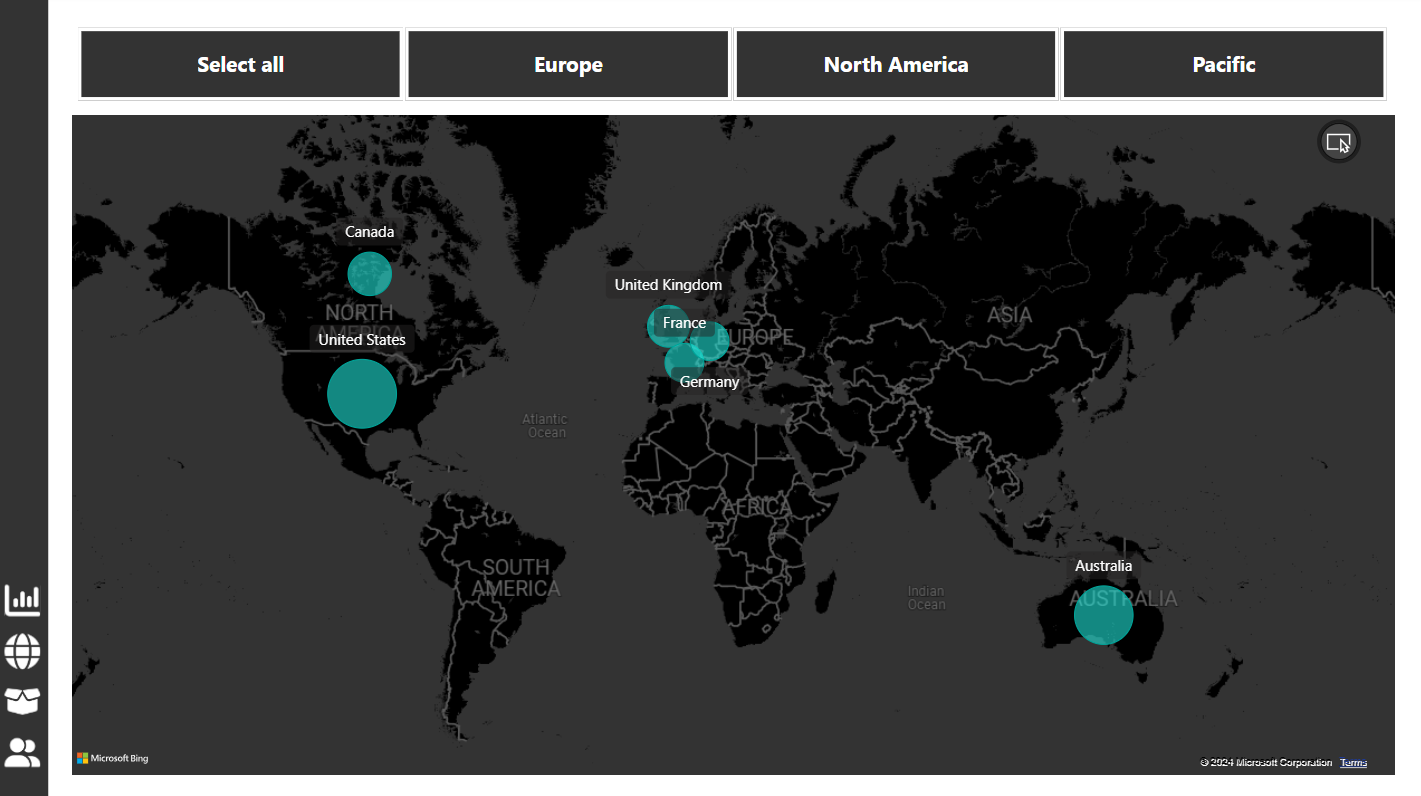

The dashboard page shown, as its layout file describes it:
{"tool":"powerbi","page":{"name":"Map","canvas":[1280,720],"ordinal":1},"visuals":[{"type":"shape","box":[0,0,45,720],"z":0},{"type":"actionButton","box":[1.8,521.2,51.9,40.3],"z":1000,"group":"g1"},{"type":"map","fields":{"Category":["Territory Lookup.Country"],"Size":["Measure Table.Total Orders"]},"box":[60.9,100.9,1194.5,600.9],"z":1000},{"type":"slicer","fields":{"Values":["Territory Lookup.Continent"]},"box":[45.5,21.8,1221.8,79.1],"z":2000},{"type":"actionButton","box":[1.8,657.3,51.9,40.3],"z":2000,"group":"g1"},{"type":"actionButton","box":[1.8,611.9,51.9,40.3],"z":3000,"group":"g1"},{"type":"group","id":"g1","title":"Navigation Keys","box":[1.8,521.2,51.9,176.4],"z":3000},{"type":"actionButton","box":[1.8,566.6,51.9,40.3],"z":4000,"group":"g1"}]}

Visuals, with their boxes on the page's 1280x720 design canvas (x1, y1, x2, y2). These are canvas units, not pixel positions in the 1421x796 screenshot, which may show the page scaled, cropped or inside an application window:
shape: 0, 0, 45, 720
actionButton: 2, 521, 54, 562
map - Territory Lookup.Country x Measure Table.Total Orders: 61, 101, 1255, 702
slicer - Territory Lookup.Continent: 46, 22, 1267, 101
actionButton: 2, 657, 54, 698
actionButton: 2, 612, 54, 652
"Navigation Keys" group: 2, 521, 54, 698
actionButton: 2, 567, 54, 607
